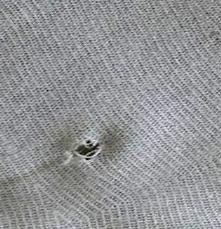hole: (71, 133, 108, 165)
